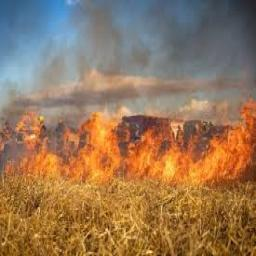Low smoke: (0, 1, 253, 107)
Medium fire: (0, 103, 256, 192)
